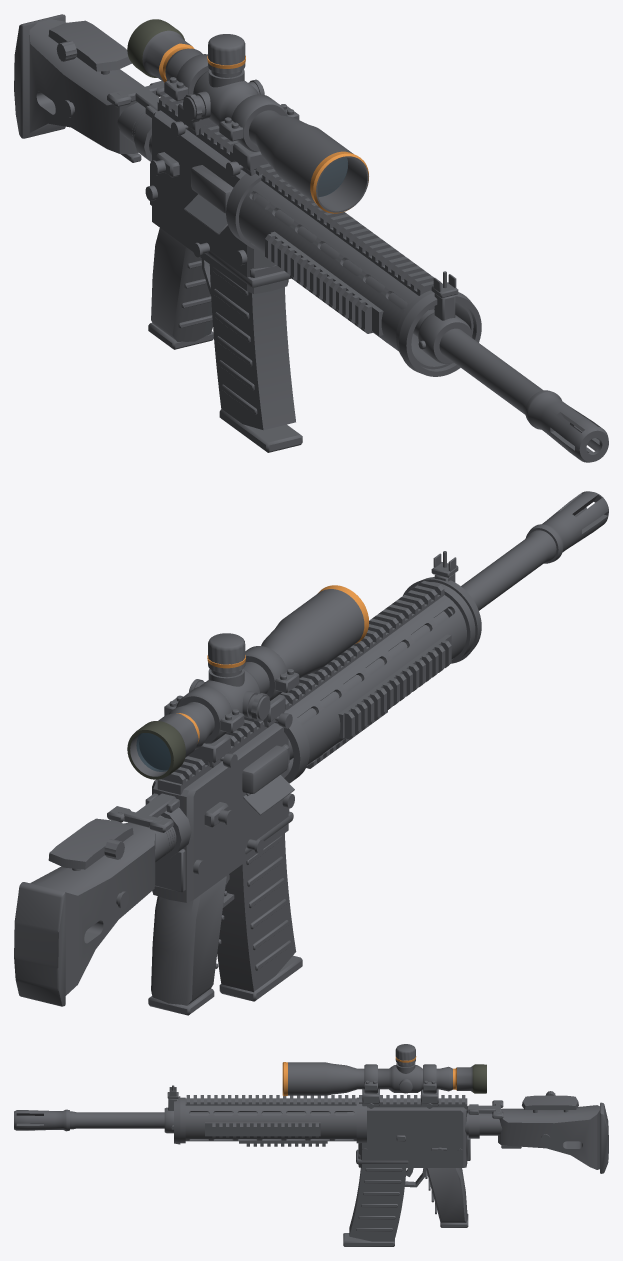
Rendered from DMRSniper.glb.
The picture shows the model from 3 angles, top to bottom: view 1: azimuth 30°, elevation 25°; view 2: azimuth 150°, elevation 25°; view 3: azimuth 270°, elevation 25°; orthographic projection. The views are drawn at different scales.
Parts seen in each view (by area): view 1: Body, Scope, Magazine, Stock, CheekRiser, ChargingHandle; view 2: Body, Scope, Stock, Magazine, CheekRiser, ChargingHandle; view 3: Body, Scope, Stock, Magazine, CheekRiser, ChargingHandle.
Boxes of the visible parts, x1,y1,x2,y2 form: Body: (117,94,608,462); Scope: (127,19,368,213); Magazine: (209,264,302,452); Stock: (14,14,145,162); CheekRiser: (48,20,131,74); ChargingHandle: (107,81,166,117); Body: (148,491,608,1015); Scope: (127,585,368,779); Stock: (14,816,175,1006); Magazine: (217,833,302,1001); CheekRiser: (48,818,133,870); ChargingHandle: (107,793,179,832); Body: (14,1085,502,1227); Scope: (282,1044,486,1108); Stock: (480,1102,608,1173); Magazine: (343,1168,406,1246); CheekRiser: (522,1091,578,1112); ChargingHandle: (467,1100,503,1118).
Bounding box in the file's own units: 0.0784 × 0.3159 × 0.873.
